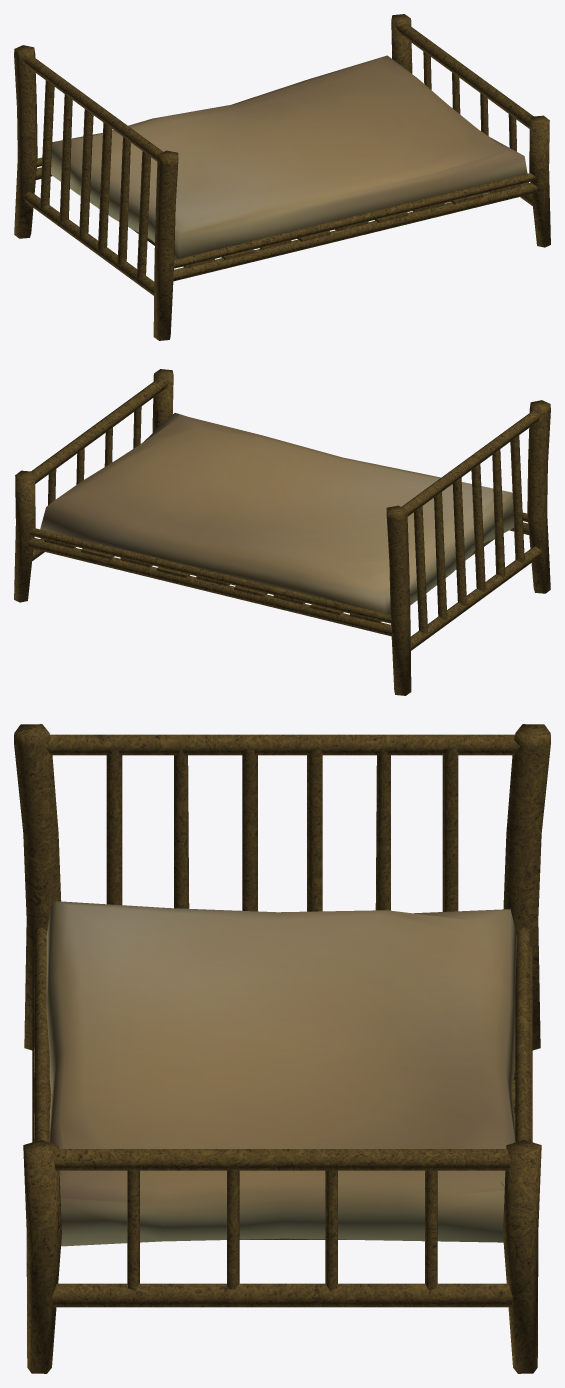
Rendered from bed.dae.
3 views of the same model, one above another, from view 1: azimuth 30°, elevation 25°; view 2: azimuth 150°, elevation 25°; view 3: azimuth 270°, elevation 25° (orthographic). The views are drawn at different scales.
Parts seen in each view (by area): view 1: Cube.008, Cylinder.004; view 2: Cube.008, Cylinder.004; view 3: Cube.008, Cylinder.004.
Part boxes in pixels (left/top/right/bottom): Cube.008: left=51, top=55, right=528, bottom=267; Cylinder.004: left=14, top=14, right=550, bottom=340; Cube.008: left=40, top=413, right=523, bottom=614; Cylinder.004: left=14, top=369, right=550, bottom=695; Cube.008: left=46, top=901, right=517, bottom=1246; Cylinder.004: left=14, top=724, right=550, bottom=1373.
Bounding box in the file's own units: 2.79 × 1.9 × 1.24.
